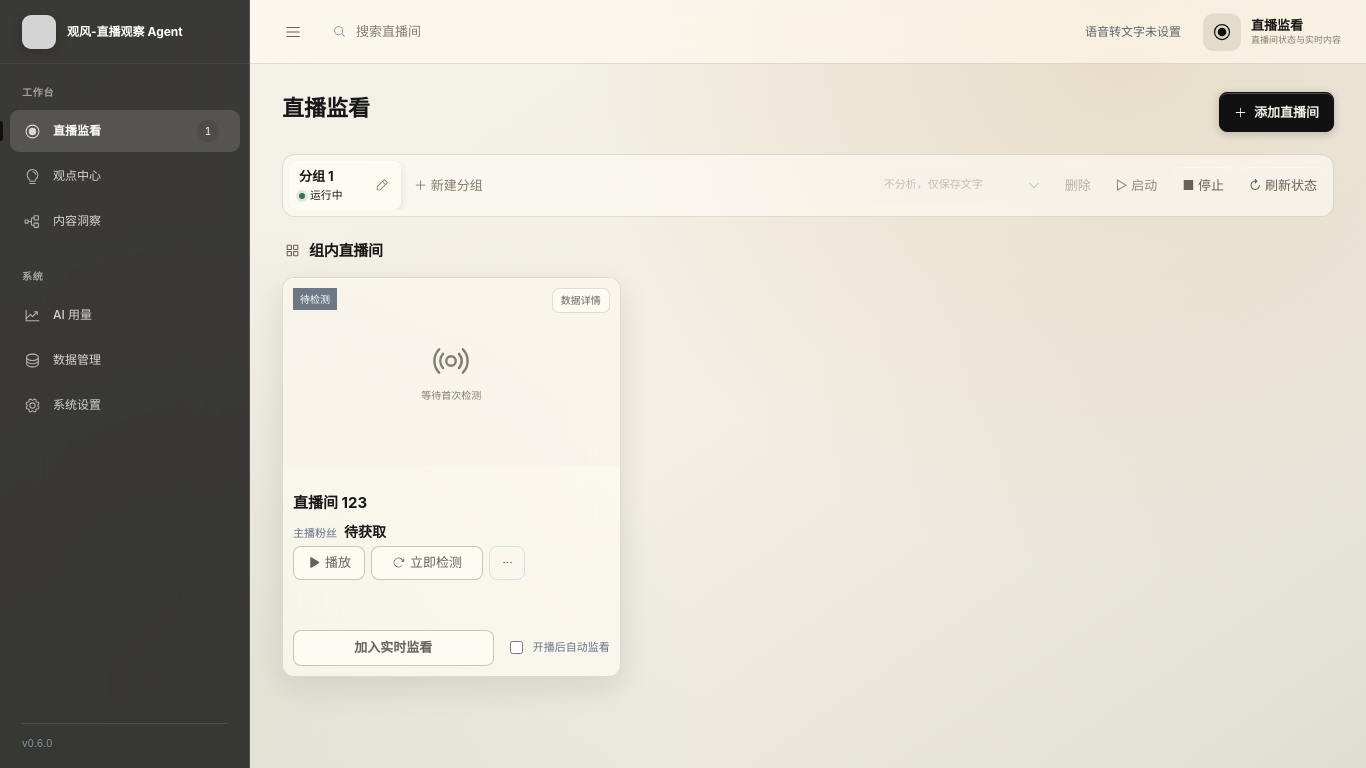
Test case: room form › shows a user-facing error if the running group changes while joining monitoring
Click the button "加入实时监看" at (393, 648), box [293,630,494,666]
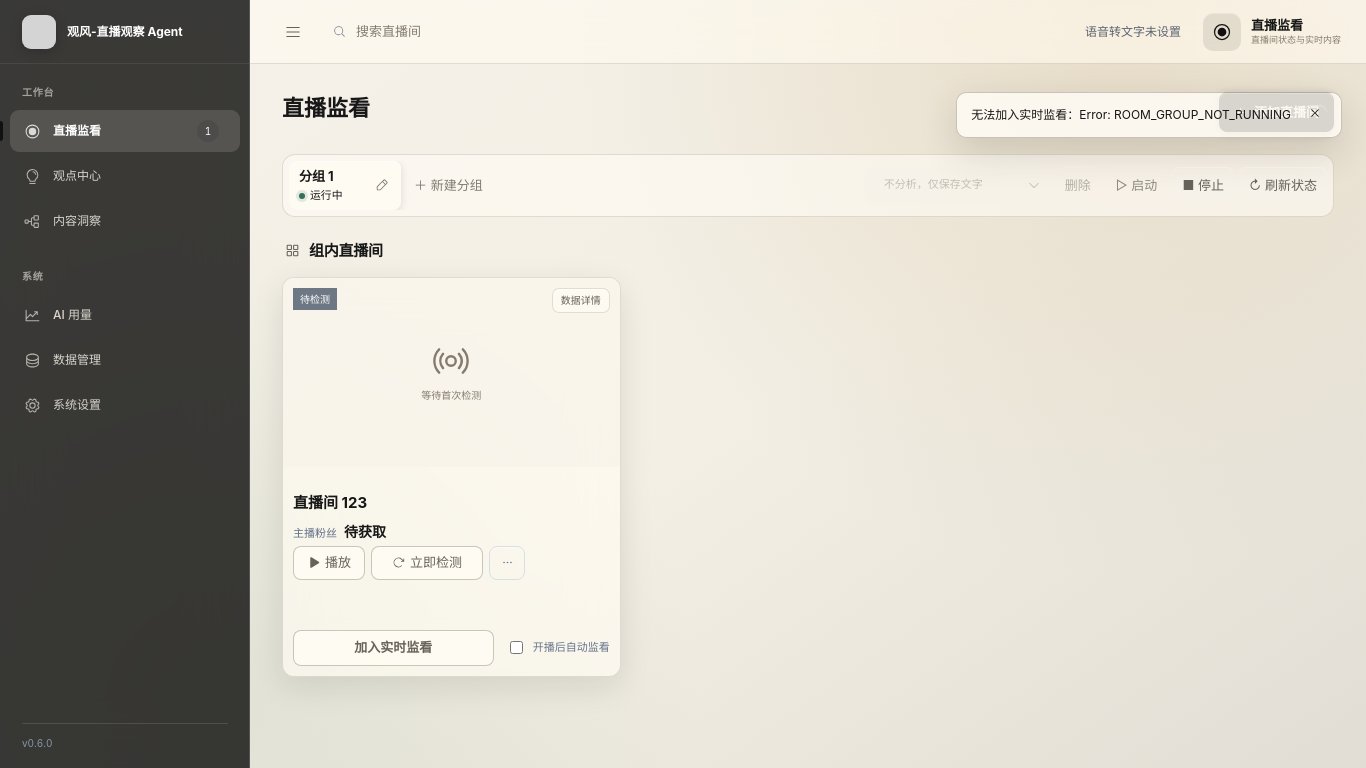
Result: the text "无法加入实时监看：Error: ROOM_GROUP_NOT_RUNNING" is shown at [956,92,1342,138]
